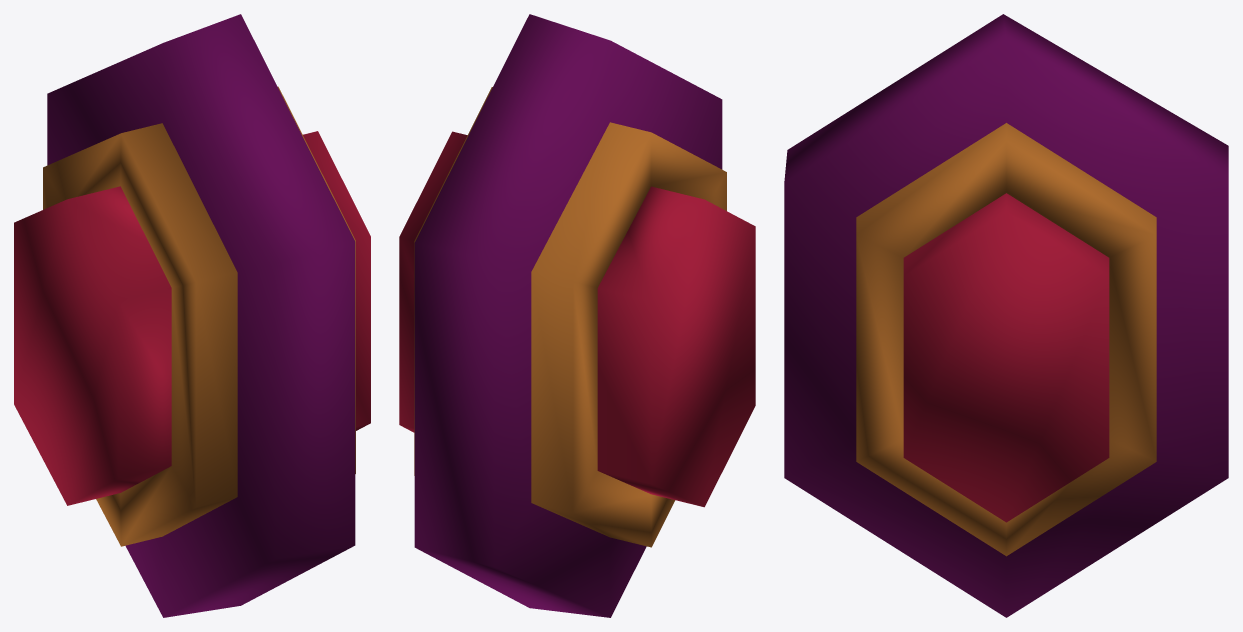
The model's file is coleccionable.obj.
3 views of the same model, side by side, from view 1: azimuth 30°, elevation 25°; view 2: azimuth 150°, elevation 25°; view 3: azimuth 270°, elevation 25° (orthographic). The views are drawn at different scales.
Visible parts, largest first — view 1: Box001; view 2: Box001; view 3: Box001.
Boxes of the visible parts, x1=… form: Box001: x1=14, y1=14, x2=370, y2=617; Box001: x1=399, y1=14, x2=755, y2=617; Box001: x1=784, y1=14, x2=1228, y2=617.
Size of the model in its own units: 31.66 by 71.32 by 50.
